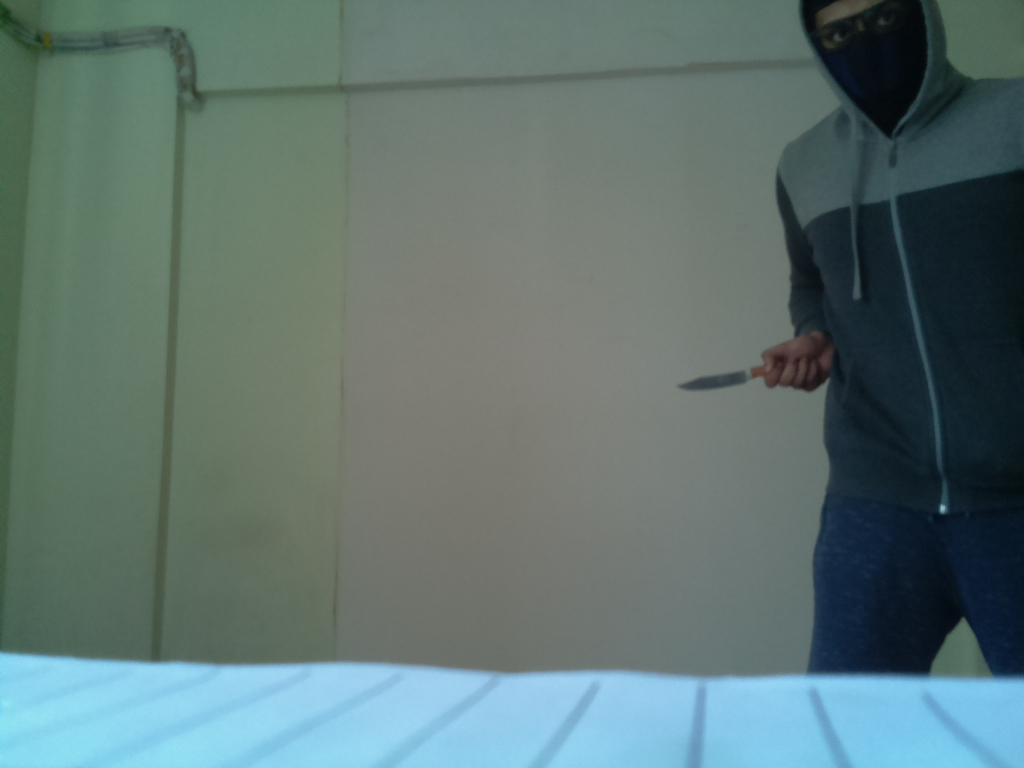knife: (675, 360, 788, 399)
